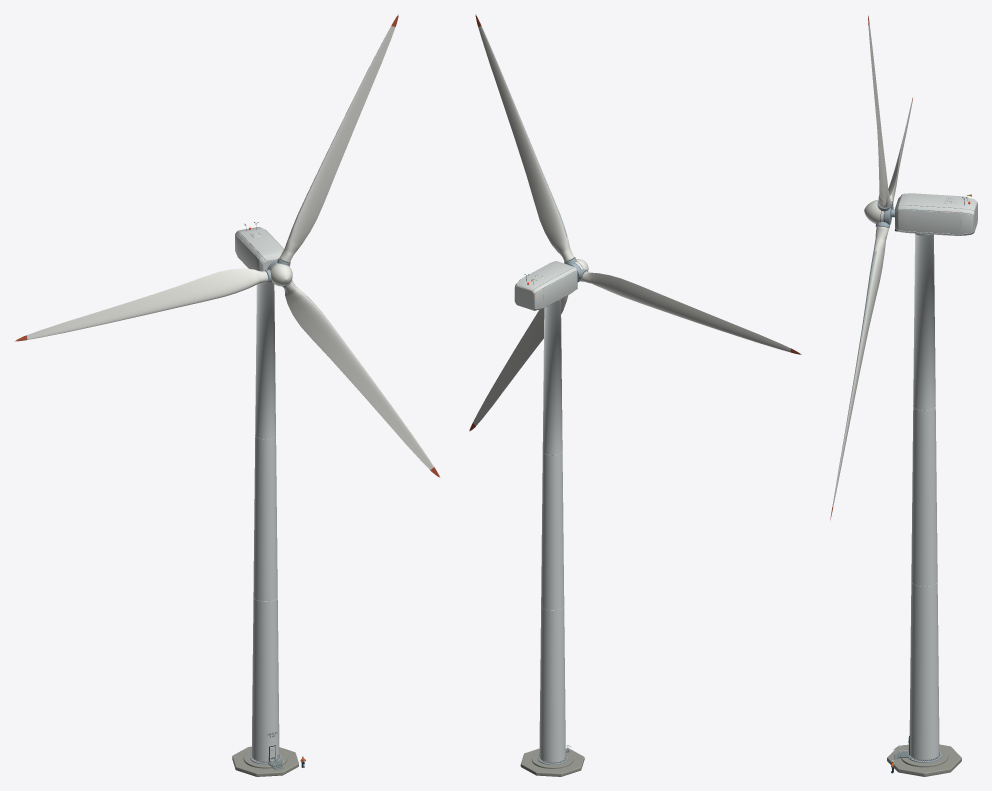
The picture shows the model from 3 angles, left to right: view 1: azimuth 30°, elevation 25°; view 2: azimuth 150°, elevation 25°; view 3: azimuth 270°, elevation 25°; orthographic projection. The views are drawn at different scales.
Parts seen in each view (by area): view 1: TOWER | tapered tubular steel · Ø4.0 → Ø2.5 m.001, BLADE 03 | 40.00 m · twisted airfoil.001, BLADE 02 | 40.00 m · twisted airfoil.001, BLADE 01 | 40.00 m · twisted airfoil.001, Foundation / reinforced concrete octagon.001, SHELL | Removable roof.001; view 2: TOWER | tapered tubular steel · Ø4.0 → Ø2.5 m.001, BLADE 01 | 40.00 m · twisted airfoil.001, BLADE 03 | 40.00 m · twisted airfoil.001, BLADE 02 | 40.00 m · twisted airfoil.001, SHELL | Port removable side.001, Foundation / reinforced concrete octagon.001, SHELL | Removable roof.001; view 3: TOWER | tapered tubular steel · Ø4.0 → Ø2.5 m.001, BLADE 02 | 40.00 m · twisted airfoil.001, SHELL | Starboard removable side.001, Foundation / reinforced concrete octagon.001, BLADE 01 | 40.00 m · twisted airfoil.001, SHELL | Removable roof.001, BLADE 03 | 40.00 m · twisted airfoil.001, SHELL | Starboard roof shoulder.001, Raised circular equipment plinth.001, SPINNER | streamlined composite nose.001.
Boxes of the visible parts, <box> form: TOWER | tapered tubular steel · Ø4.0 → Ø2.5 m.001: <box>251,282,279,762</box>; BLADE 03 | 40.00 m · twisted airfoil.001: <box>14,268,268,341</box>; BLADE 02 | 40.00 m · twisted airfoil.001: <box>283,280,440,477</box>; BLADE 01 | 40.00 m · twisted airfoil.001: <box>279,14,398,262</box>; Foundation / reinforced concrete octagon.001: <box>232,746,298,776</box>; SHELL | Removable roof.001: <box>238,227,283,260</box>; TOWER | tapered tubular steel · Ø4.0 → Ø2.5 m.001: <box>539,300,565,763</box>; BLADE 01 | 40.00 m · twisted airfoil.001: <box>475,14,574,261</box>; BLADE 03 | 40.00 m · twisted airfoil.001: <box>581,271,801,354</box>; BLADE 02 | 40.00 m · twisted airfoil.001: <box>469,295,568,431</box>; SHELL | Port removable side.001: <box>534,271,577,308</box>; Foundation / reinforced concrete octagon.001: <box>520,748,584,776</box>; SHELL | Removable roof.001: <box>517,261,574,290</box>; TOWER | tapered tubular steel · Ø4.0 → Ø2.5 m.001: <box>909,234,939,760</box>; BLADE 02 | 40.00 m · twisted airfoil.001: <box>830,226,888,521</box>; SHELL | Starboard removable side.001: <box>895,209,973,234</box>; Foundation / reinforced concrete octagon.001: <box>887,744,961,776</box>; BLADE 01 | 40.00 m · twisted airfoil.001: <box>868,15,890,207</box>; SHELL | Removable roof.001: <box>895,193,976,210</box>; BLADE 03 | 40.00 m · twisted airfoil.001: <box>888,98,912,202</box>; SHELL | Starboard roof shoulder.001: <box>895,205,973,214</box>; Raised circular equipment plinth.001: <box>901,748,948,767</box>; SPINNER | streamlined composite nose.001: <box>864,199,883,223</box>.
Bounding box in the file's own units: 64.42 × 118 × 19.66.
